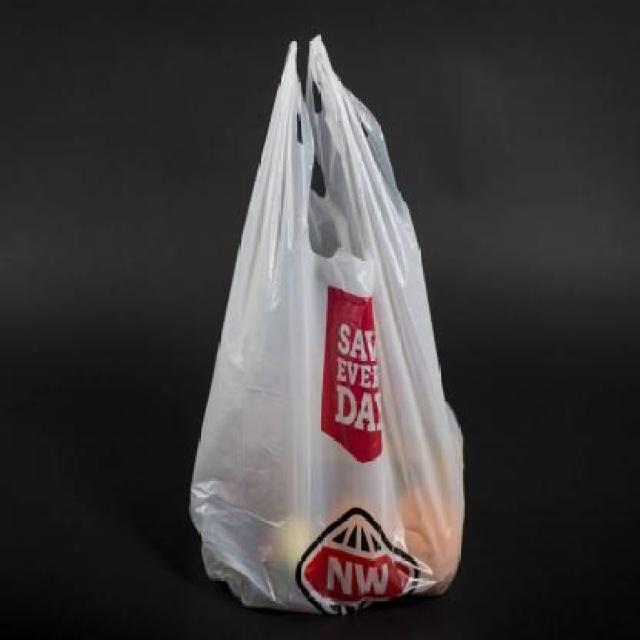plastic bag: (188, 31, 473, 618)
